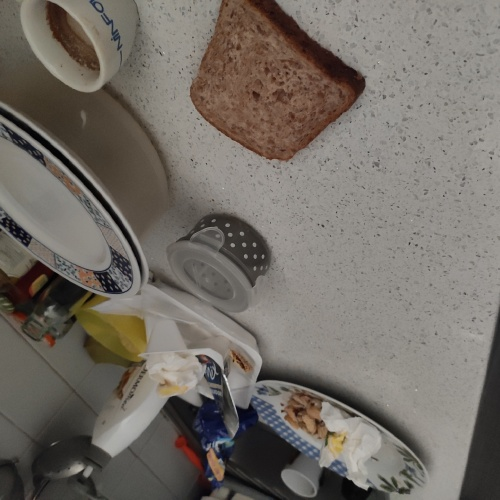pane: (185, 4, 366, 169)
